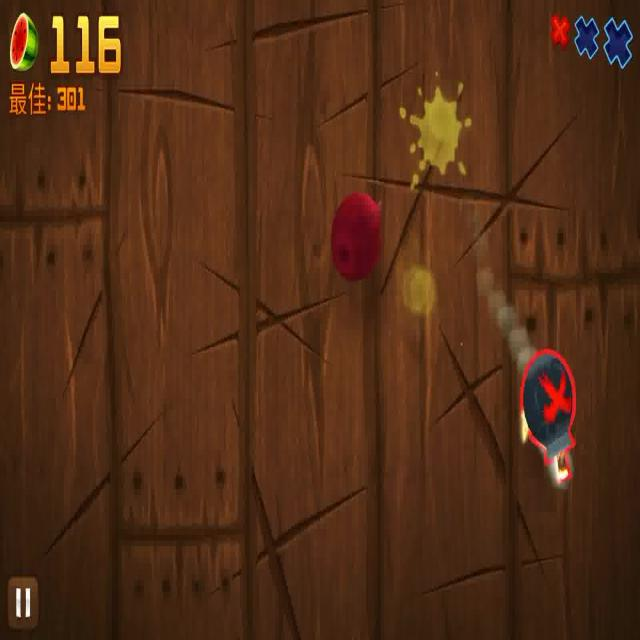bomb: (513, 345, 583, 487)
fruit: (329, 194, 386, 272)
